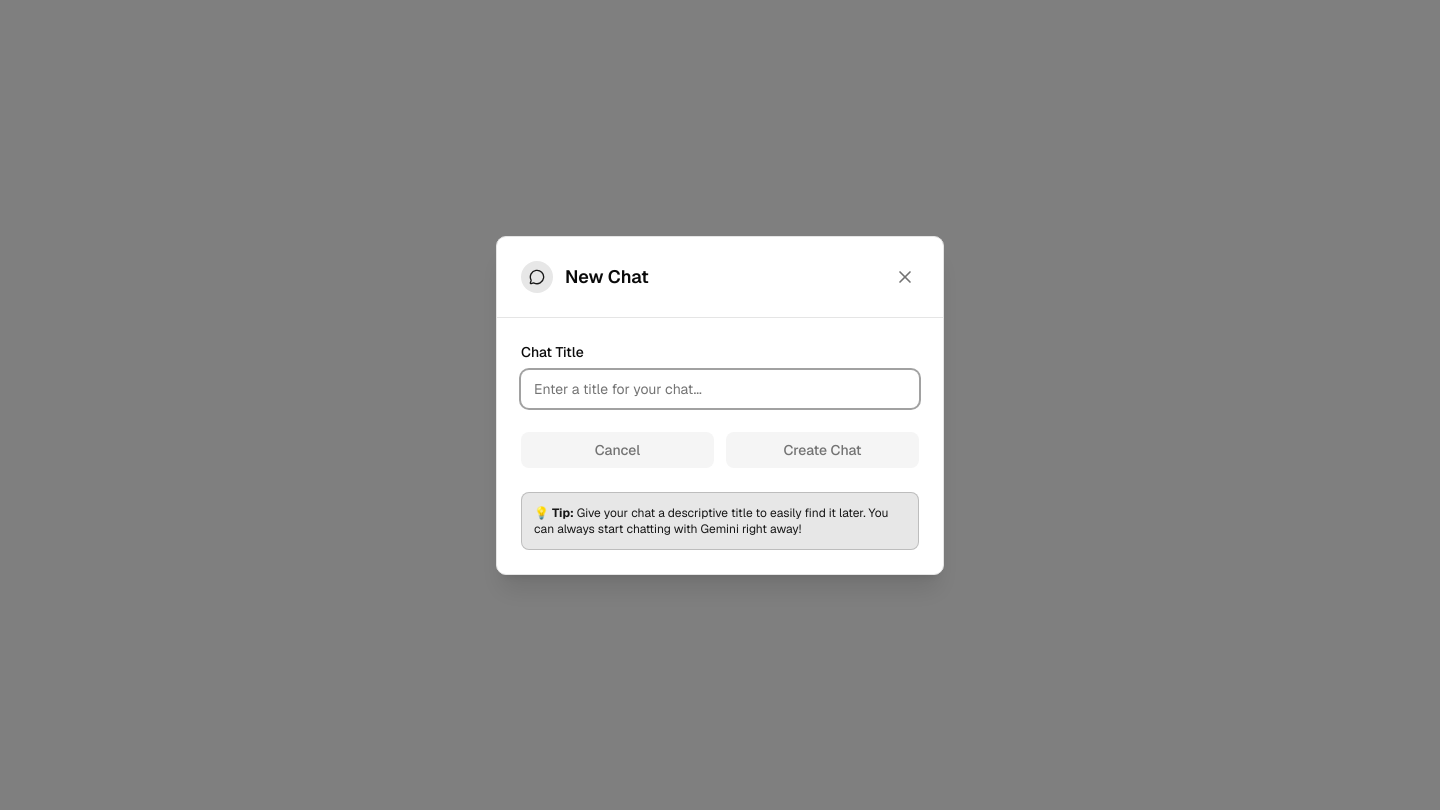
Test case: CreateChatroomModal validation › enables submit for a valid title
The image size is (1440, 810).
Step 1. Type "My chat" into the field with placeholder "Enter a title for your chat..." → (720, 388), box left=521, top=370, right=919, bottom=408
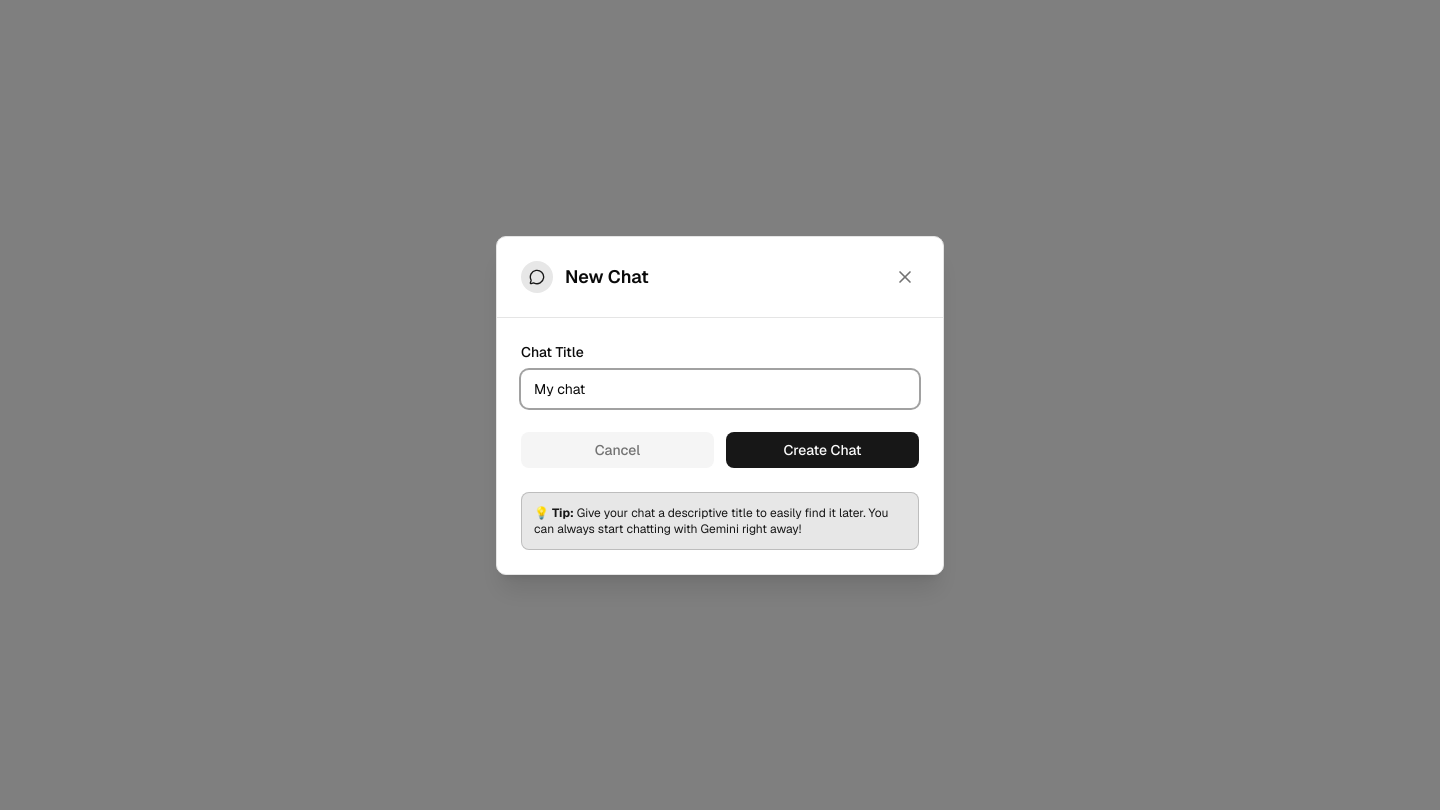
Check: the button "Create Chat" is enabled, box left=726, top=432, right=919, bottom=468
